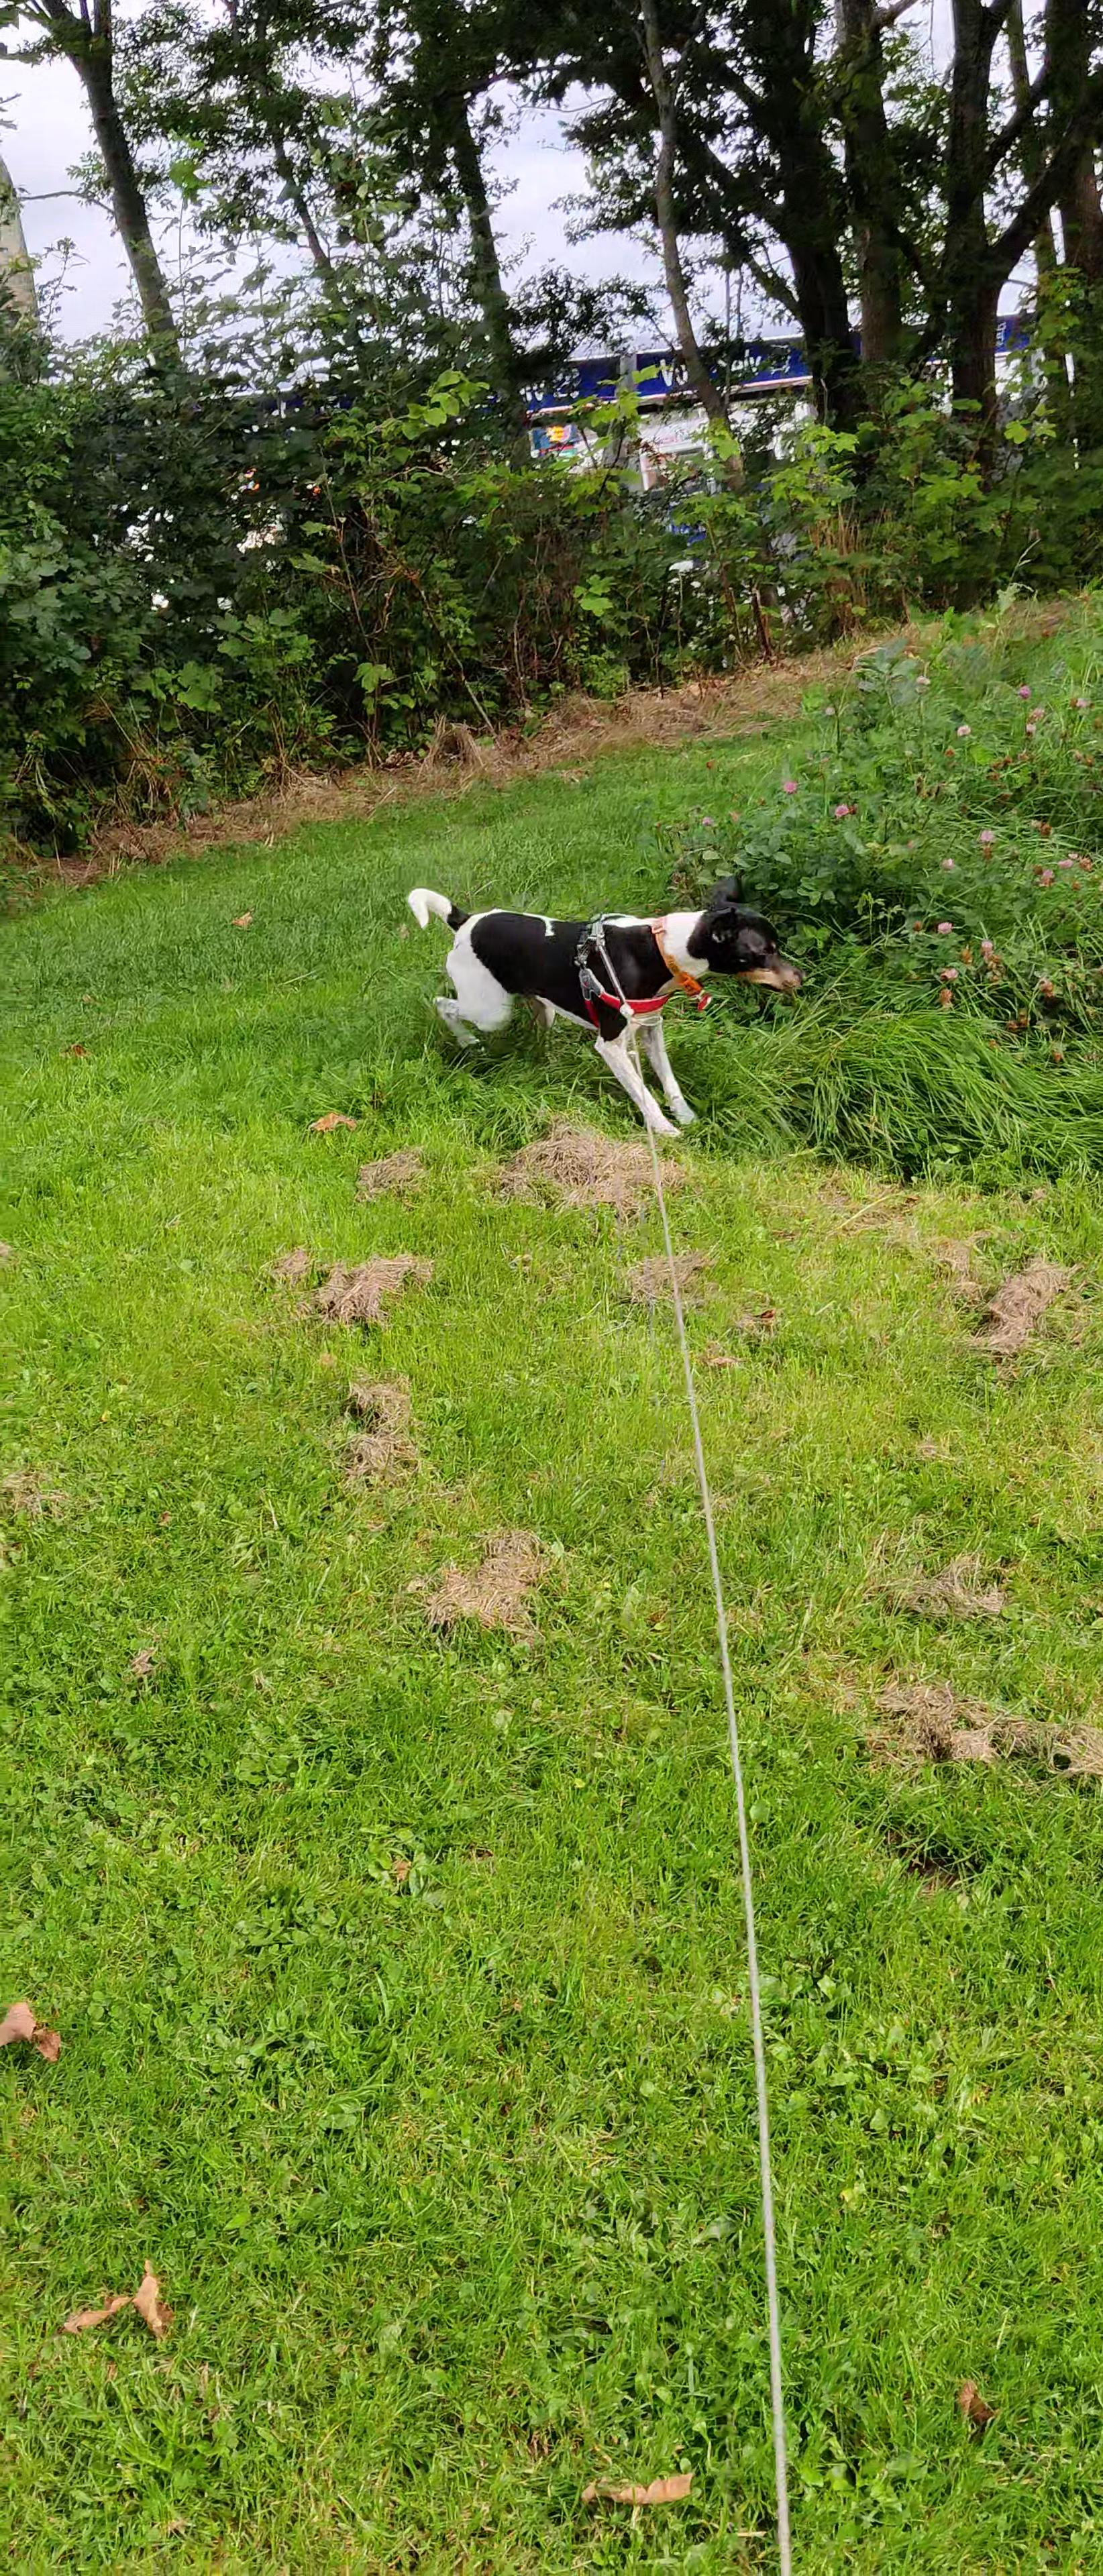Dog: (386, 846, 828, 1158)
